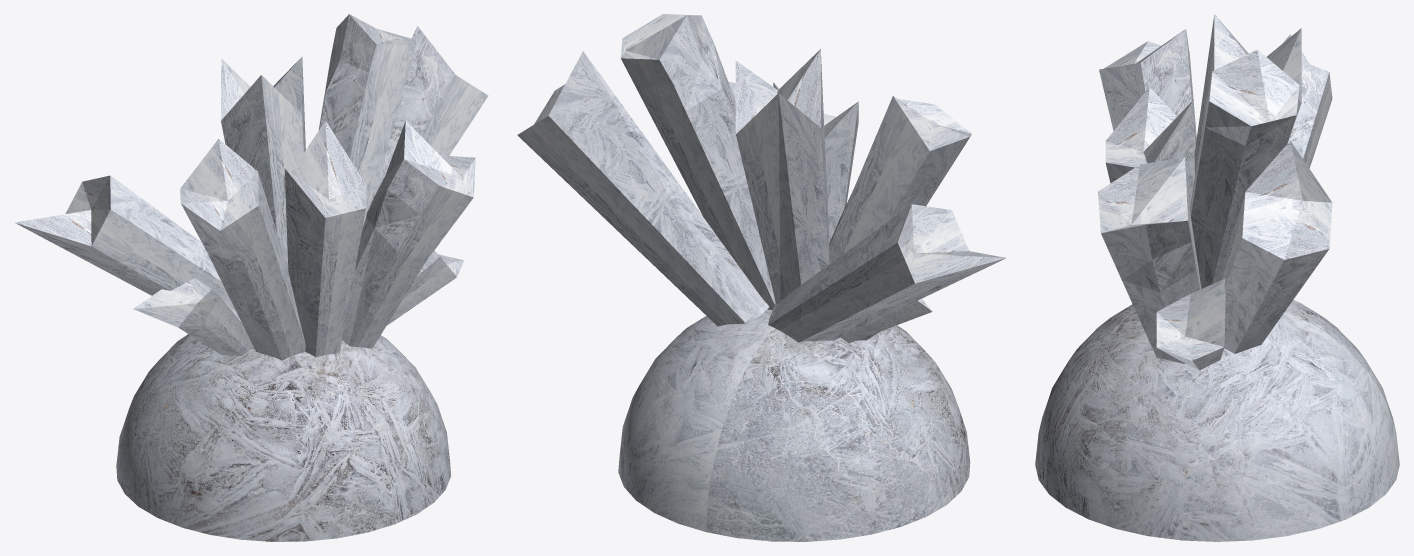
The model's file is LampLight_3DAsset_GreenCrystalCracked.FBX.
The picture shows the model from 3 angles, left to right: view 1: azimuth 30°, elevation 25°; view 2: azimuth 150°, elevation 25°; view 3: azimuth 270°, elevation 25°; orthographic projection. The views are drawn at different scales.
Visible parts, largest first — view 1: LampLight_Crystal_Base001, Green_Crystal018, Green_Crystal013, Green_Crystal010, Green_Crystal019, Green_Crystal016, Green_Crystal017, Green_Crystal014, Green_Crystal012, Green_Crystal011; view 2: LampLight_Crystal_Base001, Green_Crystal014, Green_Crystal016, Green_Crystal017, Green_Crystal019, Green_Crystal013, Green_Crystal010, Green_Crystal012; view 3: LampLight_Crystal_Base001, Green_Crystal014, Green_Crystal016, Green_Crystal018, Green_Crystal010, Green_Crystal013, Green_Crystal011, Green_Crystal017, Green_Crystal019.
Boxes of the visible parts, x1=… form: LampLight_Crystal_Base001: x1=116, y1=334, x2=451, y2=541; Green_Crystal018: x1=342, y1=121, x2=475, y2=348; Green_Crystal013: x1=180, y1=138, x2=305, y2=360; Green_Crystal010: x1=284, y1=120, x2=366, y2=357; Green_Crystal019: x1=15, y1=175, x2=236, y2=311; Green_Crystal016: x1=318, y1=14, x2=416, y2=225; Green_Crystal017: x1=221, y1=56, x2=305, y2=268; Green_Crystal014: x1=374, y1=26, x2=488, y2=196; Green_Crystal012: x1=133, y1=278, x2=253, y2=355; Green_Crystal011: x1=386, y1=250, x2=464, y2=325; LampLight_Crystal_Base001: x1=618, y1=309, x2=970, y2=541; Green_Crystal014: x1=517, y1=51, x2=769, y2=326; Green_Crystal016: x1=620, y1=14, x2=775, y2=309; Green_Crystal017: x1=735, y1=49, x2=829, y2=304; Green_Crystal019: x1=768, y1=204, x2=1006, y2=342; Green_Crystal013: x1=829, y1=96, x2=971, y2=263; Green_Crystal010: x1=773, y1=82, x2=858, y2=242; Green_Crystal012: x1=841, y1=298, x2=932, y2=343; LampLight_Crystal_Base001: x1=1035, y1=299, x2=1399, y2=541; Green_Crystal014: x1=1218, y1=140, x2=1332, y2=353; Green_Crystal016: x1=1190, y1=49, x2=1299, y2=288; Green_Crystal018: x1=1098, y1=157, x2=1201, y2=363; Green_Crystal010: x1=1105, y1=87, x2=1194, y2=209; Green_Crystal013: x1=1099, y1=29, x2=1196, y2=151; Green_Crystal011: x1=1156, y1=278, x2=1225, y2=370; Green_Crystal017: x1=1194, y1=14, x2=1301, y2=175; Green_Crystal019: x1=1282, y1=34, x2=1332, y2=168.
Bounding box in the file's own units: 90.83 × 81.02 × 58.22.
